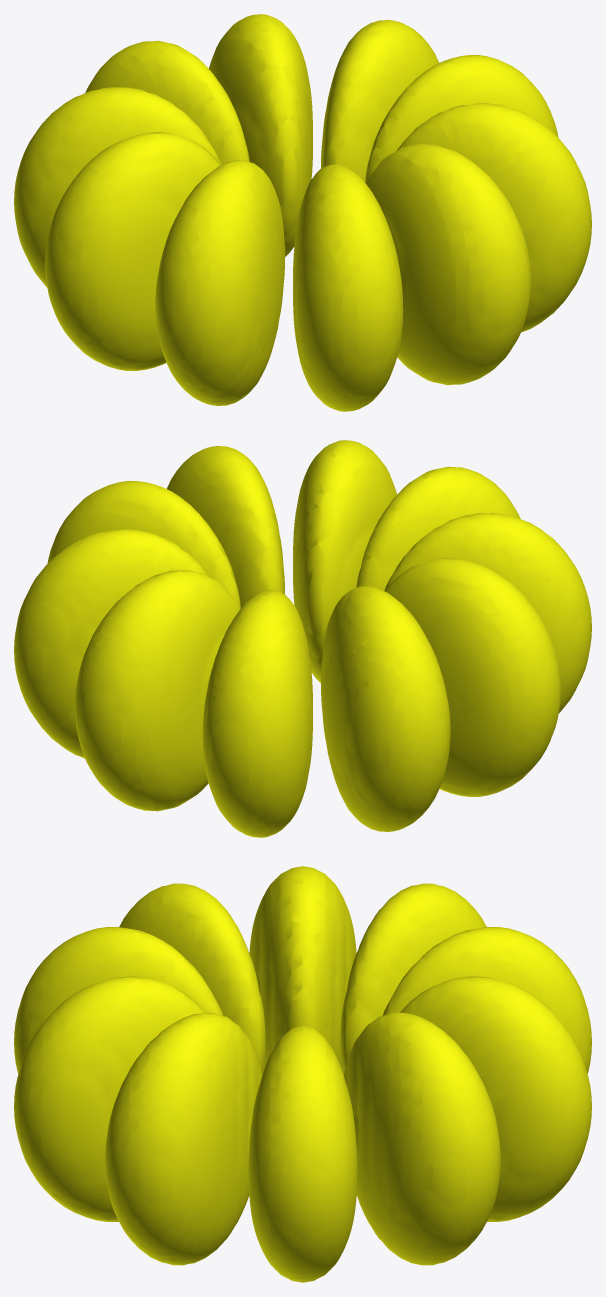
Rendered from orb_n=6_ l=5 _m=5.fbx.
The picture shows the model from 3 angles, top to bottom: view 1: azimuth 30°, elevation 25°; view 2: azimuth 150°, elevation 25°; view 3: azimuth 270°, elevation 25°; orthographic projection. The views are drawn at different scales.
Parts seen in each view (by area): view 1: orb_n=6_ l=5 _m=5; view 2: orb_n=6_ l=5 _m=5; view 3: orb_n=6_ l=5 _m=5.
Boxes of the visible parts, box(x1,y1,x2,y2) form: orb_n=6_ l=5 _m=5: box(14, 14, 591, 411); orb_n=6_ l=5 _m=5: box(14, 440, 591, 837); orb_n=6_ l=5 _m=5: box(14, 866, 591, 1282).
Size of the model in its own units: 13311 by 5840 by 12773.
